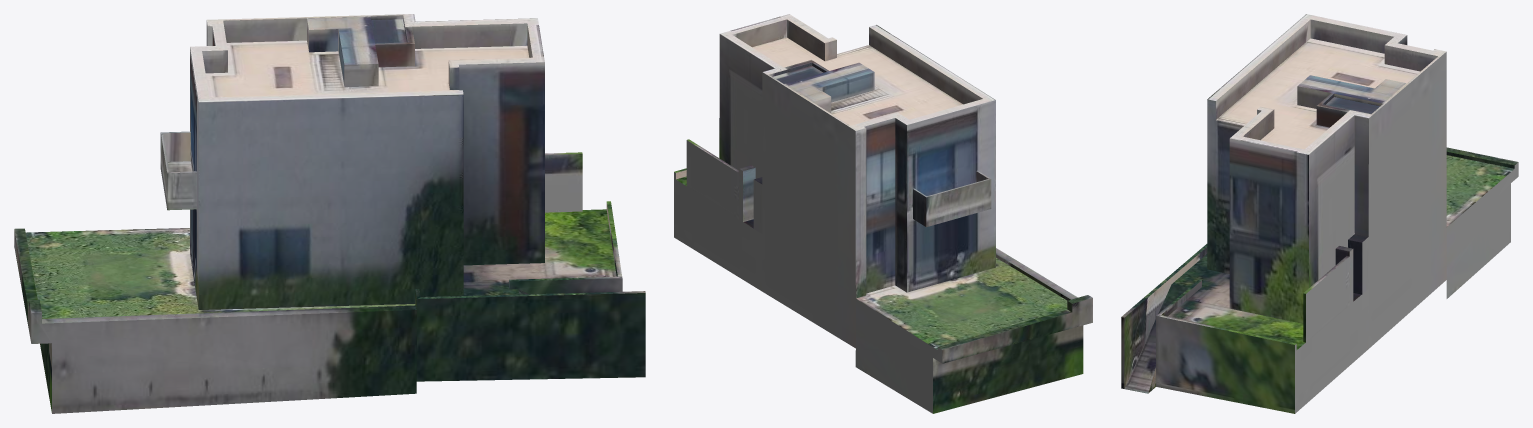
3 views of the same model, side by side, from view 1: azimuth 30°, elevation 25°; view 2: azimuth 150°, elevation 25°; view 3: azimuth 270°, elevation 25° (orthographic). The views are drawn at different scales.
Visible parts, largest first — view 1: B287304030401062A0; view 2: B287304030401062A0; view 3: B287304030401062A0.
Part boxes in pixels (x1,y1,x2,y2): B287304030401062A0: [14, 14, 645, 413]; B287304030401062A0: [674, 14, 1092, 413]; B287304030401062A0: [1121, 14, 1518, 413].
Bounding box in the file's own units: 25.42 × 13.01 × 18.8.
Materials: 1 (1 with a texture image).
